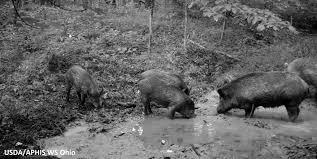wildboar: (214, 69, 311, 122), (137, 77, 198, 118), (56, 64, 111, 109)
